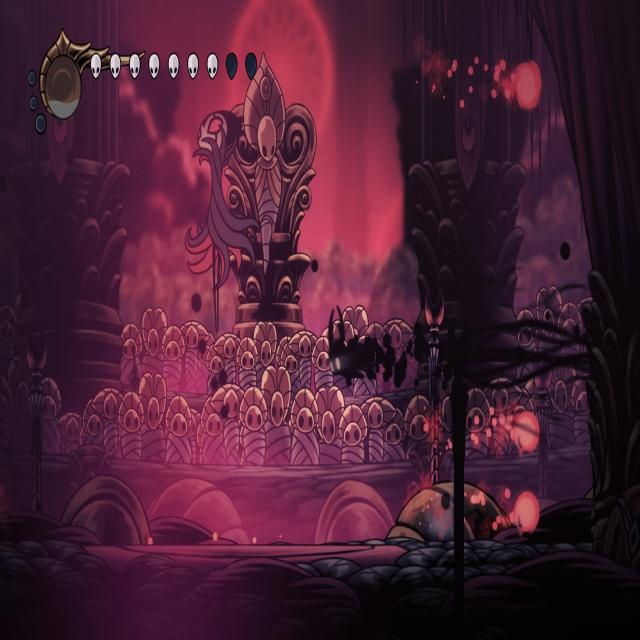Grimm: (184, 105, 259, 339)
Player: (326, 301, 374, 392)
Tiny Fireballs: (514, 63, 542, 113), (514, 413, 540, 455), (515, 493, 540, 535)
